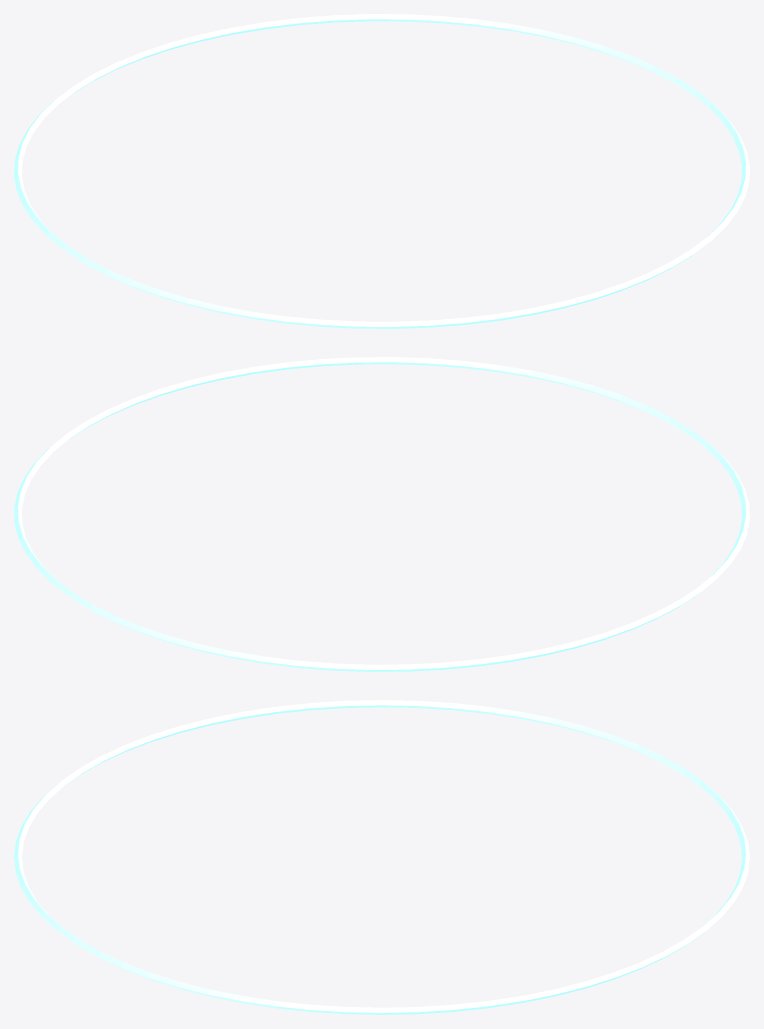
The model's file is player_ring.glb.
The picture shows the model from 3 angles, top to bottom: view 1: azimuth 30°, elevation 25°; view 2: azimuth 150°, elevation 25°; view 3: azimuth 270°, elevation 25°; orthographic projection.
Visible parts, largest first — view 1: PlayerRing; view 2: PlayerRing; view 3: PlayerRing.
Part boxes in pixels (x1,y1,x2,y2): PlayerRing: [14, 14, 749, 328]; PlayerRing: [14, 357, 749, 671]; PlayerRing: [14, 700, 749, 1014].
Bounding box in the file's own units: 2.02 × 0.022 × 2.02.
